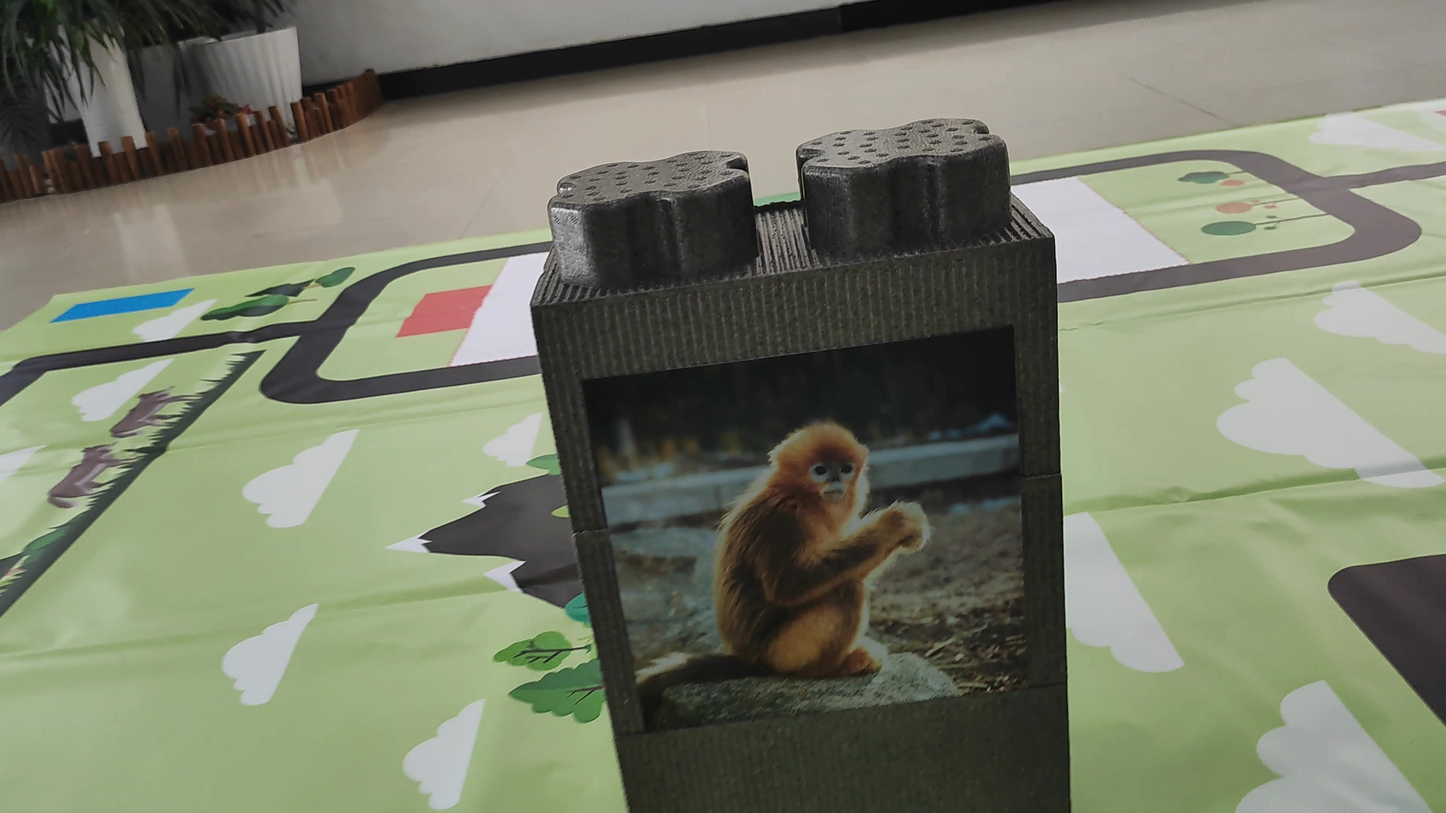monkey: (609, 364, 1007, 701)
